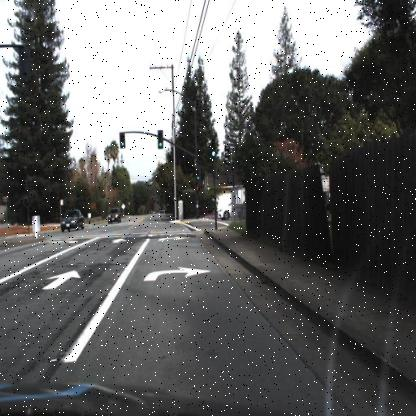car: (58, 205, 85, 233), (60, 207, 86, 232), (217, 199, 233, 224), (216, 200, 233, 223), (105, 206, 123, 224), (106, 208, 120, 226), (0, 219, 10, 242)
trafficLight-Green: (193, 160, 202, 188), (118, 126, 126, 153), (156, 126, 165, 150), (208, 136, 218, 157), (119, 127, 127, 150), (156, 128, 164, 151), (210, 140, 217, 161)
